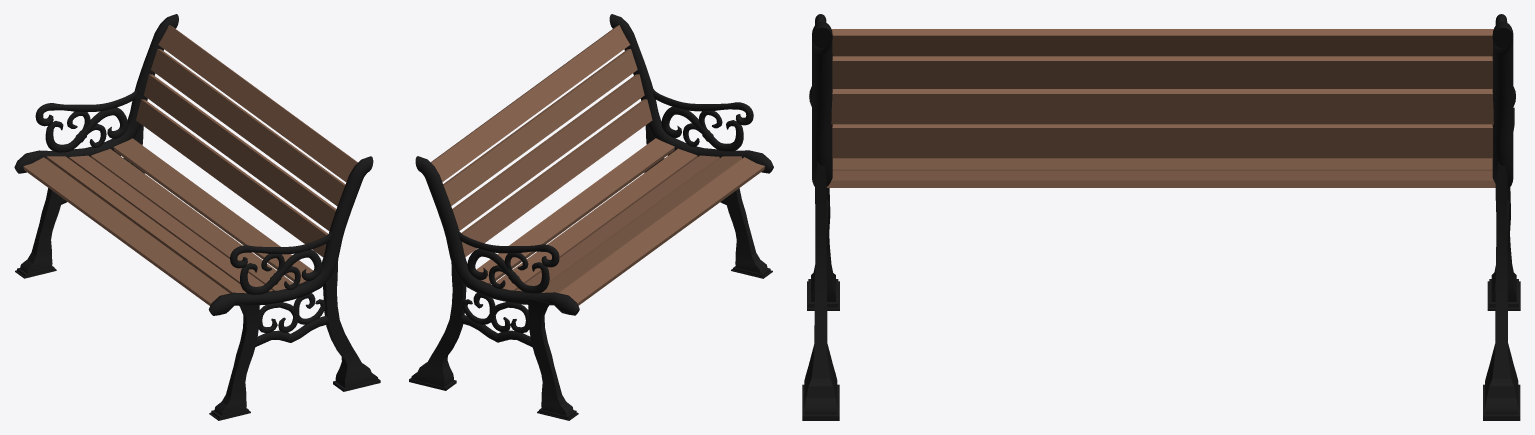
The model's file is AL_bench_TL.fbx.
3 views of the same model, side by side, from view 1: azimuth 30°, elevation 25°; view 2: azimuth 150°, elevation 25°; view 3: azimuth 270°, elevation 25° (orthographic). The views are drawn at different scales.
Visible parts, largest first — view 1: pCube12; view 2: pCube12; view 3: pCube12.
Boxes of the visible parts, x1,y1,x2,y2 form: pCube12: [14, 14, 380, 420]; pCube12: [409, 14, 773, 420]; pCube12: [802, 14, 1520, 420].
Bounding box in the file's own units: 1.03 × 1.33 × 2.22.
